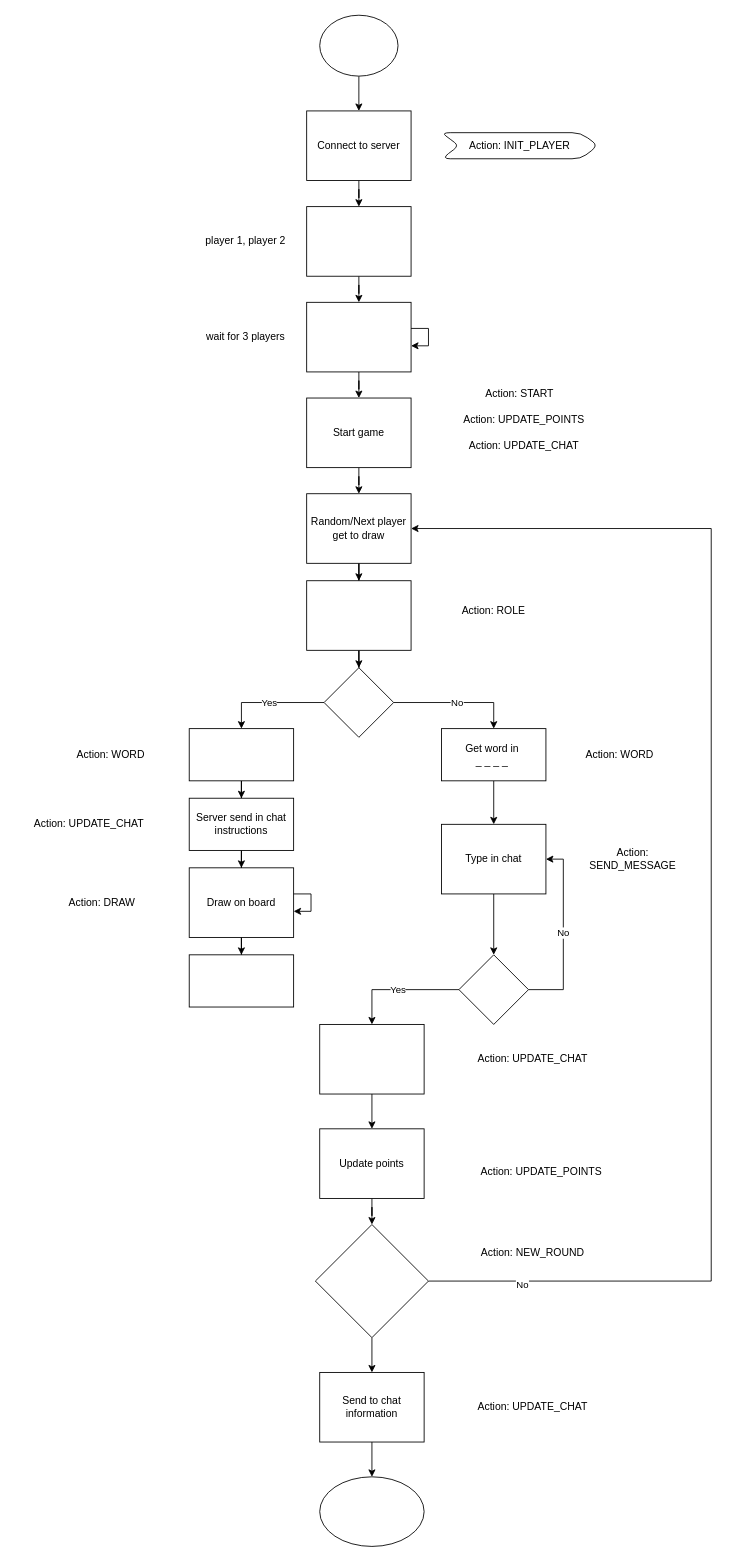
The diagram is 733 pixels wide and 1562 high, and some of its shapes have lost their labels. The shapes that lost their labels are listed below. From the top down, each one's centre as x and y in pixels, then its label:
At pixel 358 45: "Start".
At pixel 358 241: "Get username".
At pixel 358 336: "Wait for players".
At pixel 358 615: "Send to player their role".
At pixel 358 702: "Can I draw?".
At pixel 241 754: "Get word".
At pixel 241 980: "Block sending in chat".
At pixel 493 989: "If typed in answer".
At pixel 371 1059: "Server writes to chat who won".
At pixel 371 1281: "If 3 rounds for every person".
At pixel 371 1511: "End".
